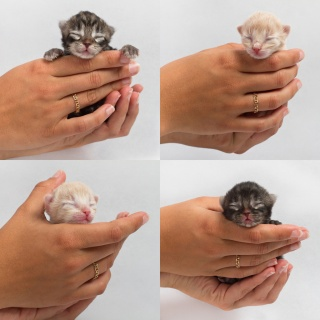Cat: (42, 9, 139, 114), (215, 181, 282, 283), (236, 8, 291, 59), (41, 181, 100, 223)
